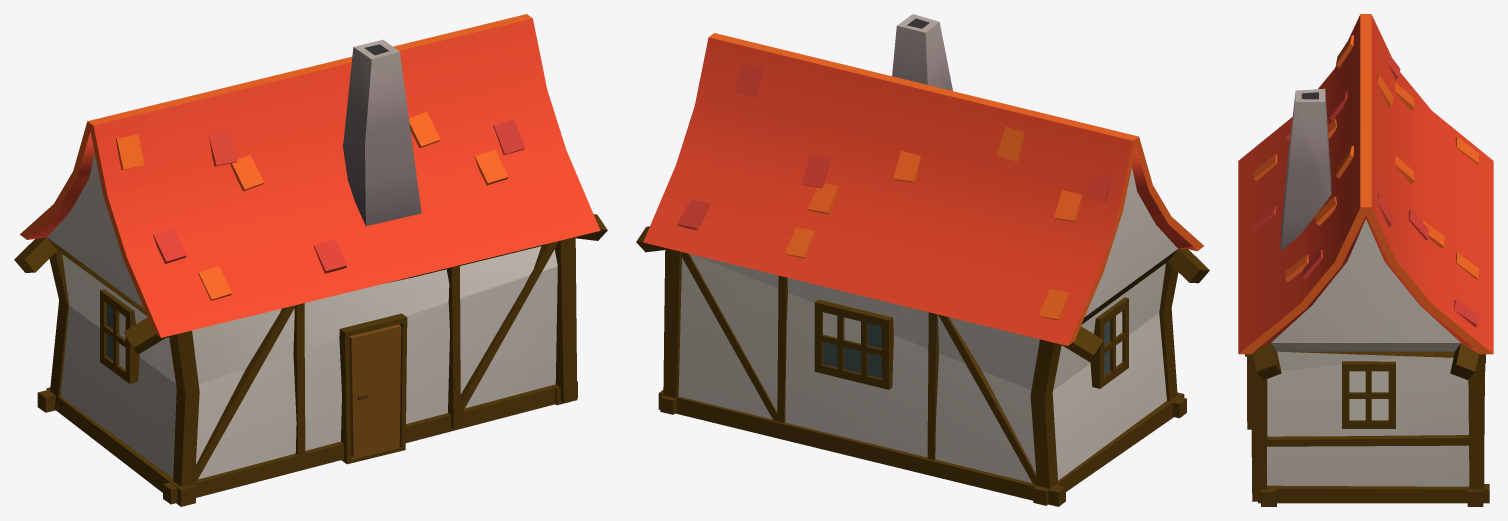
File: House_3.fbx
The picture shows the model from 3 angles, left to right: view 1: azimuth 30°, elevation 25°; view 2: azimuth 150°, elevation 25°; view 3: azimuth 270°, elevation 25°; orthographic projection. The views are drawn at different scales.
Visible parts, largest first — view 1: House_3; view 2: House_3; view 3: House_3.
Part boxes in pixels (box(x1,y1,x2,y2)): House_3: box(14, 14, 607, 506); House_3: box(636, 14, 1209, 506); House_3: box(1238, 14, 1493, 506).
Bounding box in the file's own units: 2.27 × 1.72 × 1.18.
